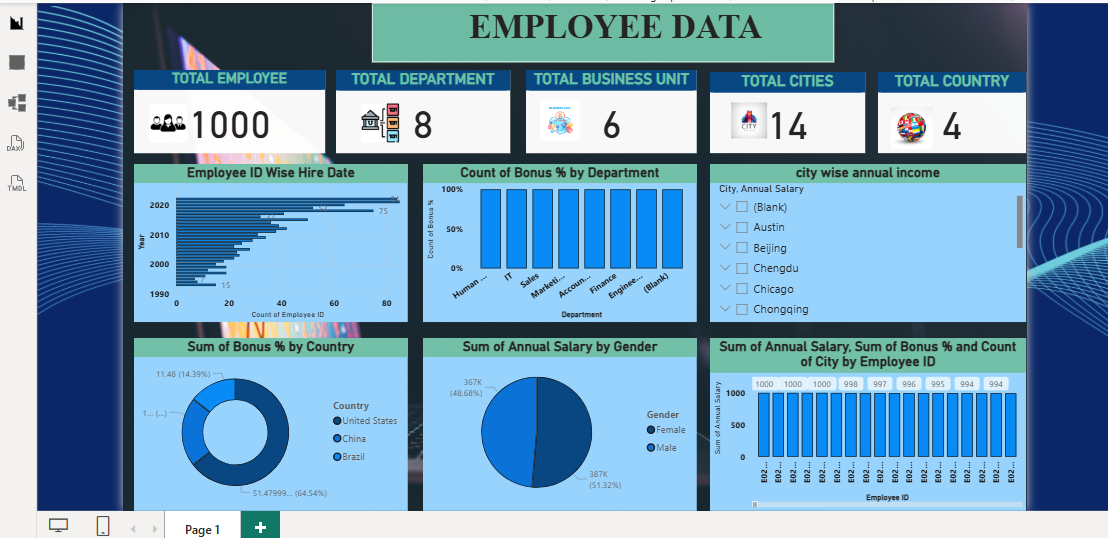

The dashboard page shown, as its layout file describes it:
{"tool":"powerbi","page":{"name":"Page 1","canvas":[1280,720],"ordinal":0},"visuals":[{"type":"card","title":"TOTAL EMPLOYEE","fields":{"Values":["CountNonNull(Employee Data.Employee ID)"]},"box":[15.6,95,270.7,117.6],"z":0},{"type":"image","box":[15.6,137.5,96.4,65.2],"z":1000},{"type":"card","title":"TOTAL DEPARTMENT","fields":{"Values":["Count(Employee Data.Department)"]},"box":[301.9,95,246.6,117.6],"z":2000},{"type":"image","box":[313.2,137.5,103.5,65.2],"z":3000},{"type":"textbox","box":[352.9,0,654.8,83.6],"z":4000},{"type":"card","title":"TOTAL BUSINESS UNIT","fields":{"Values":["Count(Employee Data.Business Unit)"]},"box":[571.2,95,242.4,117.6],"z":5000},{"type":"card","title":"TOTAL CITIES","fields":{"Values":["Count(Employee Data.City)"]},"box":[832,97.8,219.7,114.8],"z":6000},{"type":"card","title":"TOTAL COUNTRY","fields":{"Values":["Count(Employee Data.Country)"]},"box":[1070.1,97.8,209.8,114.8],"z":7000},{"type":"barChart","title":"Employee ID Wise Hire Date","fields":{"Y":["CountNonNull(Employee Data.Employee ID)"],"Category":["Employee Data.Hire Date.Variation.Date Hierarchy.Year","Employee Data.Hire Date.Variation.Date Hierarchy.Quarter"]},"box":[15.6,228.2,388.3,223.9],"z":8000},{"type":"hundredPercentStackedColumnChart","fields":{"Category":["Employee Data.Department"],"Y":["Count(Employee Data.Bonus %)"]},"box":[425.2,228.2,388.3,223.9],"z":9000},{"type":"slicer","title":"city wise annual income","fields":{"Values":["Employee Data.City","Employee Data.Annual Salary"]},"box":[832,228.2,447.9,223.9],"z":10000},{"type":"donutChart","fields":{"Category":["Employee Data.Country"],"Y":["Sum(Employee Data.Bonus %)"]},"box":[15.6,474.8,388.3,245.2],"z":11000},{"type":"pieChart","fields":{"Category":["Employee Data.Gender"],"Y":["Sum(Employee Data.Annual Salary)"]},"box":[425.2,474.8,388.3,245.2],"z":12000},{"type":"lineStackedColumnComboChart","fields":{"Category":["Employee Data.Employee ID"],"Y":["Sum(Employee Data.Annual Salary)"]},"box":[832,474.8,447.9,245.2],"z":13000},{"type":"image","box":[571.2,133.2,96.4,66.6],"z":14000},{"type":"image","box":[832,136.1,110.6,60.9],"z":15000},{"type":"image","box":[1081.4,143.1,73.7,69.4],"z":16000}]}

Visuals, with their boxes in screenshot pixels (x1, y1, x2, y2):
"TOTAL EMPLOYEE" card: bbox=[129, 67, 321, 151]
image: bbox=[129, 97, 198, 144]
"TOTAL DEPARTMENT" card: bbox=[332, 67, 507, 151]
image: bbox=[340, 97, 414, 144]
textbox: bbox=[369, 0, 833, 59]
"TOTAL BUSINESS UNIT" card: bbox=[523, 67, 695, 151]
"TOTAL CITIES" card: bbox=[708, 69, 864, 151]
"TOTAL COUNTRY" card: bbox=[877, 69, 1026, 151]
"Employee ID Wise Hire Date" barChart: bbox=[129, 162, 405, 321]
hundredPercentStackedColumnChart - Employee Data.Department x Count(Employee Data.Bonus %): bbox=[420, 162, 695, 321]
"city wise annual income" slicer: bbox=[708, 162, 1026, 321]
donutChart - Employee Data.Country x Sum(Employee Data.Bonus %): bbox=[129, 337, 405, 511]
pieChart - Employee Data.Gender x Sum(Employee Data.Annual Salary): bbox=[420, 337, 695, 511]
lineStackedColumnComboChart - Employee Data.Employee ID x Sum(Employee Data.Annual Salary): bbox=[708, 337, 1026, 511]
image: bbox=[523, 94, 592, 142]
image: bbox=[708, 96, 787, 140]
image: bbox=[885, 101, 937, 151]
